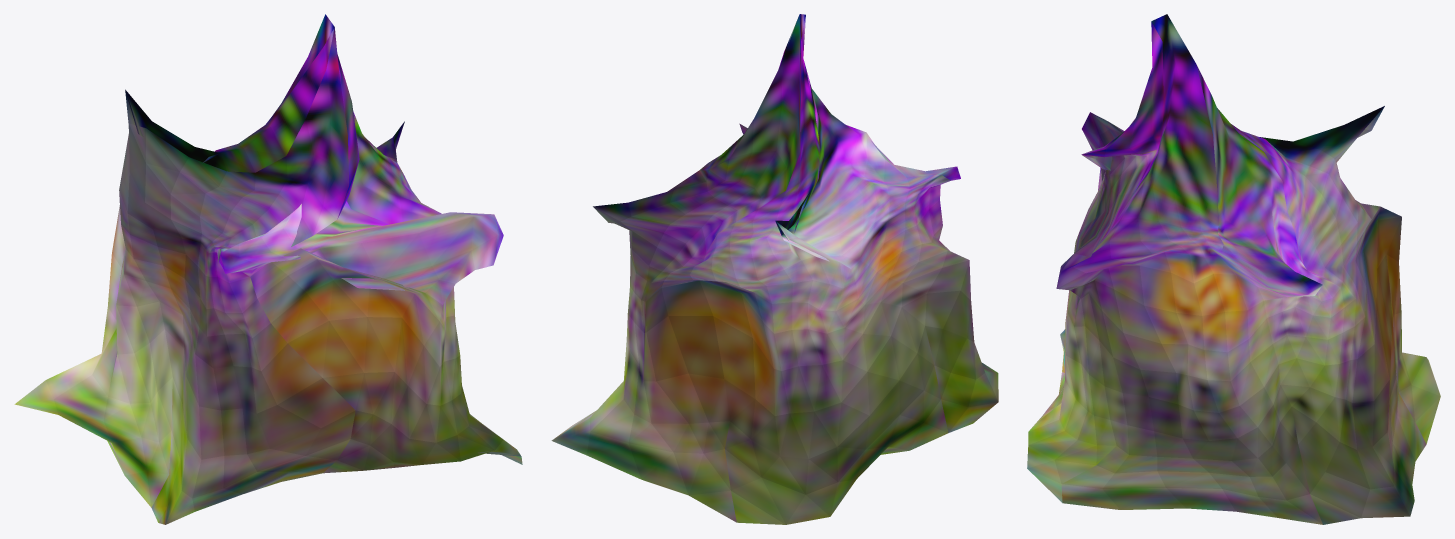
File: spooky_halloween_haunted_house.gltf
3 views of the same model, side by side, from view 1: azimuth 30°, elevation 25°; view 2: azimuth 150°, elevation 25°; view 3: azimuth 270°, elevation 25° (orthographic). The views are drawn at different scales.
Parts seen in each view (by area): view 1: pMesh1; view 2: pMesh1; view 3: pMesh1.
Part boxes in pixels (x1=…): pMesh1: x1=14, y1=14, x2=522, y2=524; pMesh1: x1=551, y1=14, x2=998, y2=524; pMesh1: x1=1027, y1=14, x2=1440, y2=524.
Bounding box in the file's own units: 2.32 × 2.95 × 2.41.
1 material, 1 textured.
